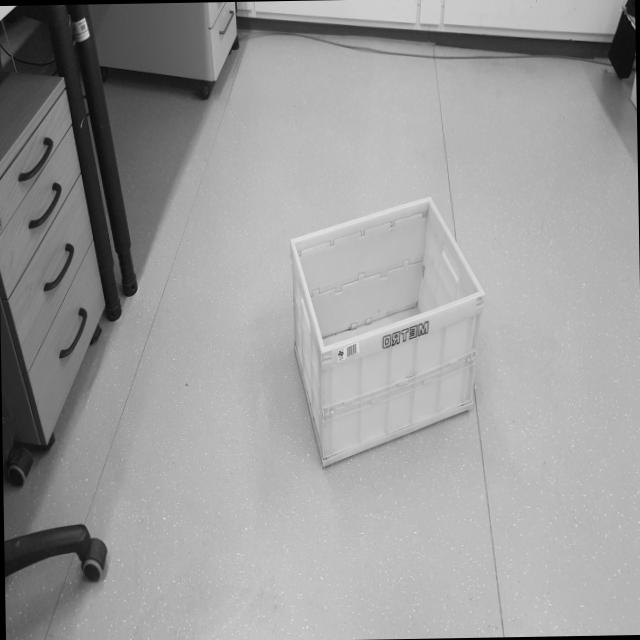box: (280, 180, 499, 487)
